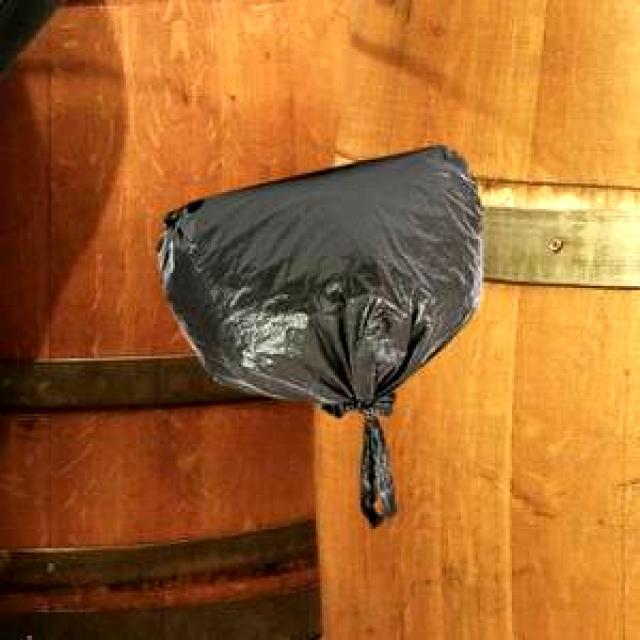Garbage_Bag: (154, 144, 480, 526)
